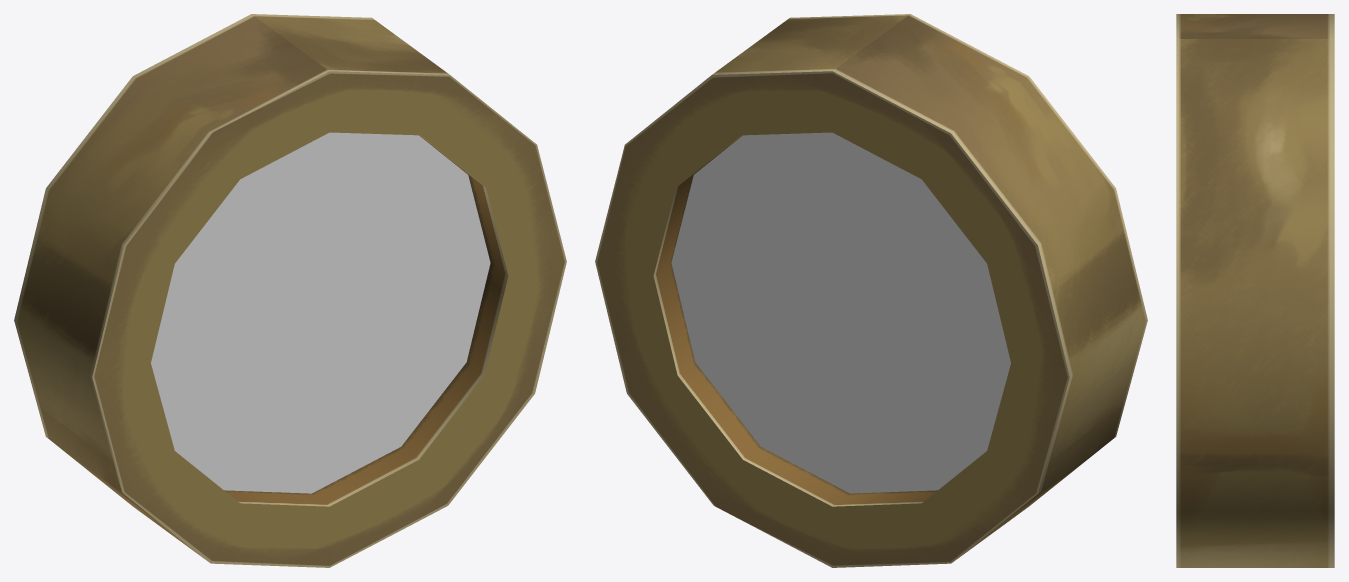
File: Lense.fbx
3 renders of one model, left to right at view 1: azimuth 30°, elevation 25°; view 2: azimuth 150°, elevation 25°; view 3: azimuth 270°, elevation 25°, orthographic.
Parts seen in each view (by area): view 1: lense, lense_mirror; view 2: lense, lense_mirror; view 3: lense.
Part boxes in pixels (x1,y1,x2,y2): lense: (14,14,566,567); lense_mirror: (151,132,490,493); lense: (595,14,1147,567); lense_mirror: (671,132,1010,493); lense: (1176,14,1334,567).
Bounding box in the file's own units: 231 × 231 × 65.81.
